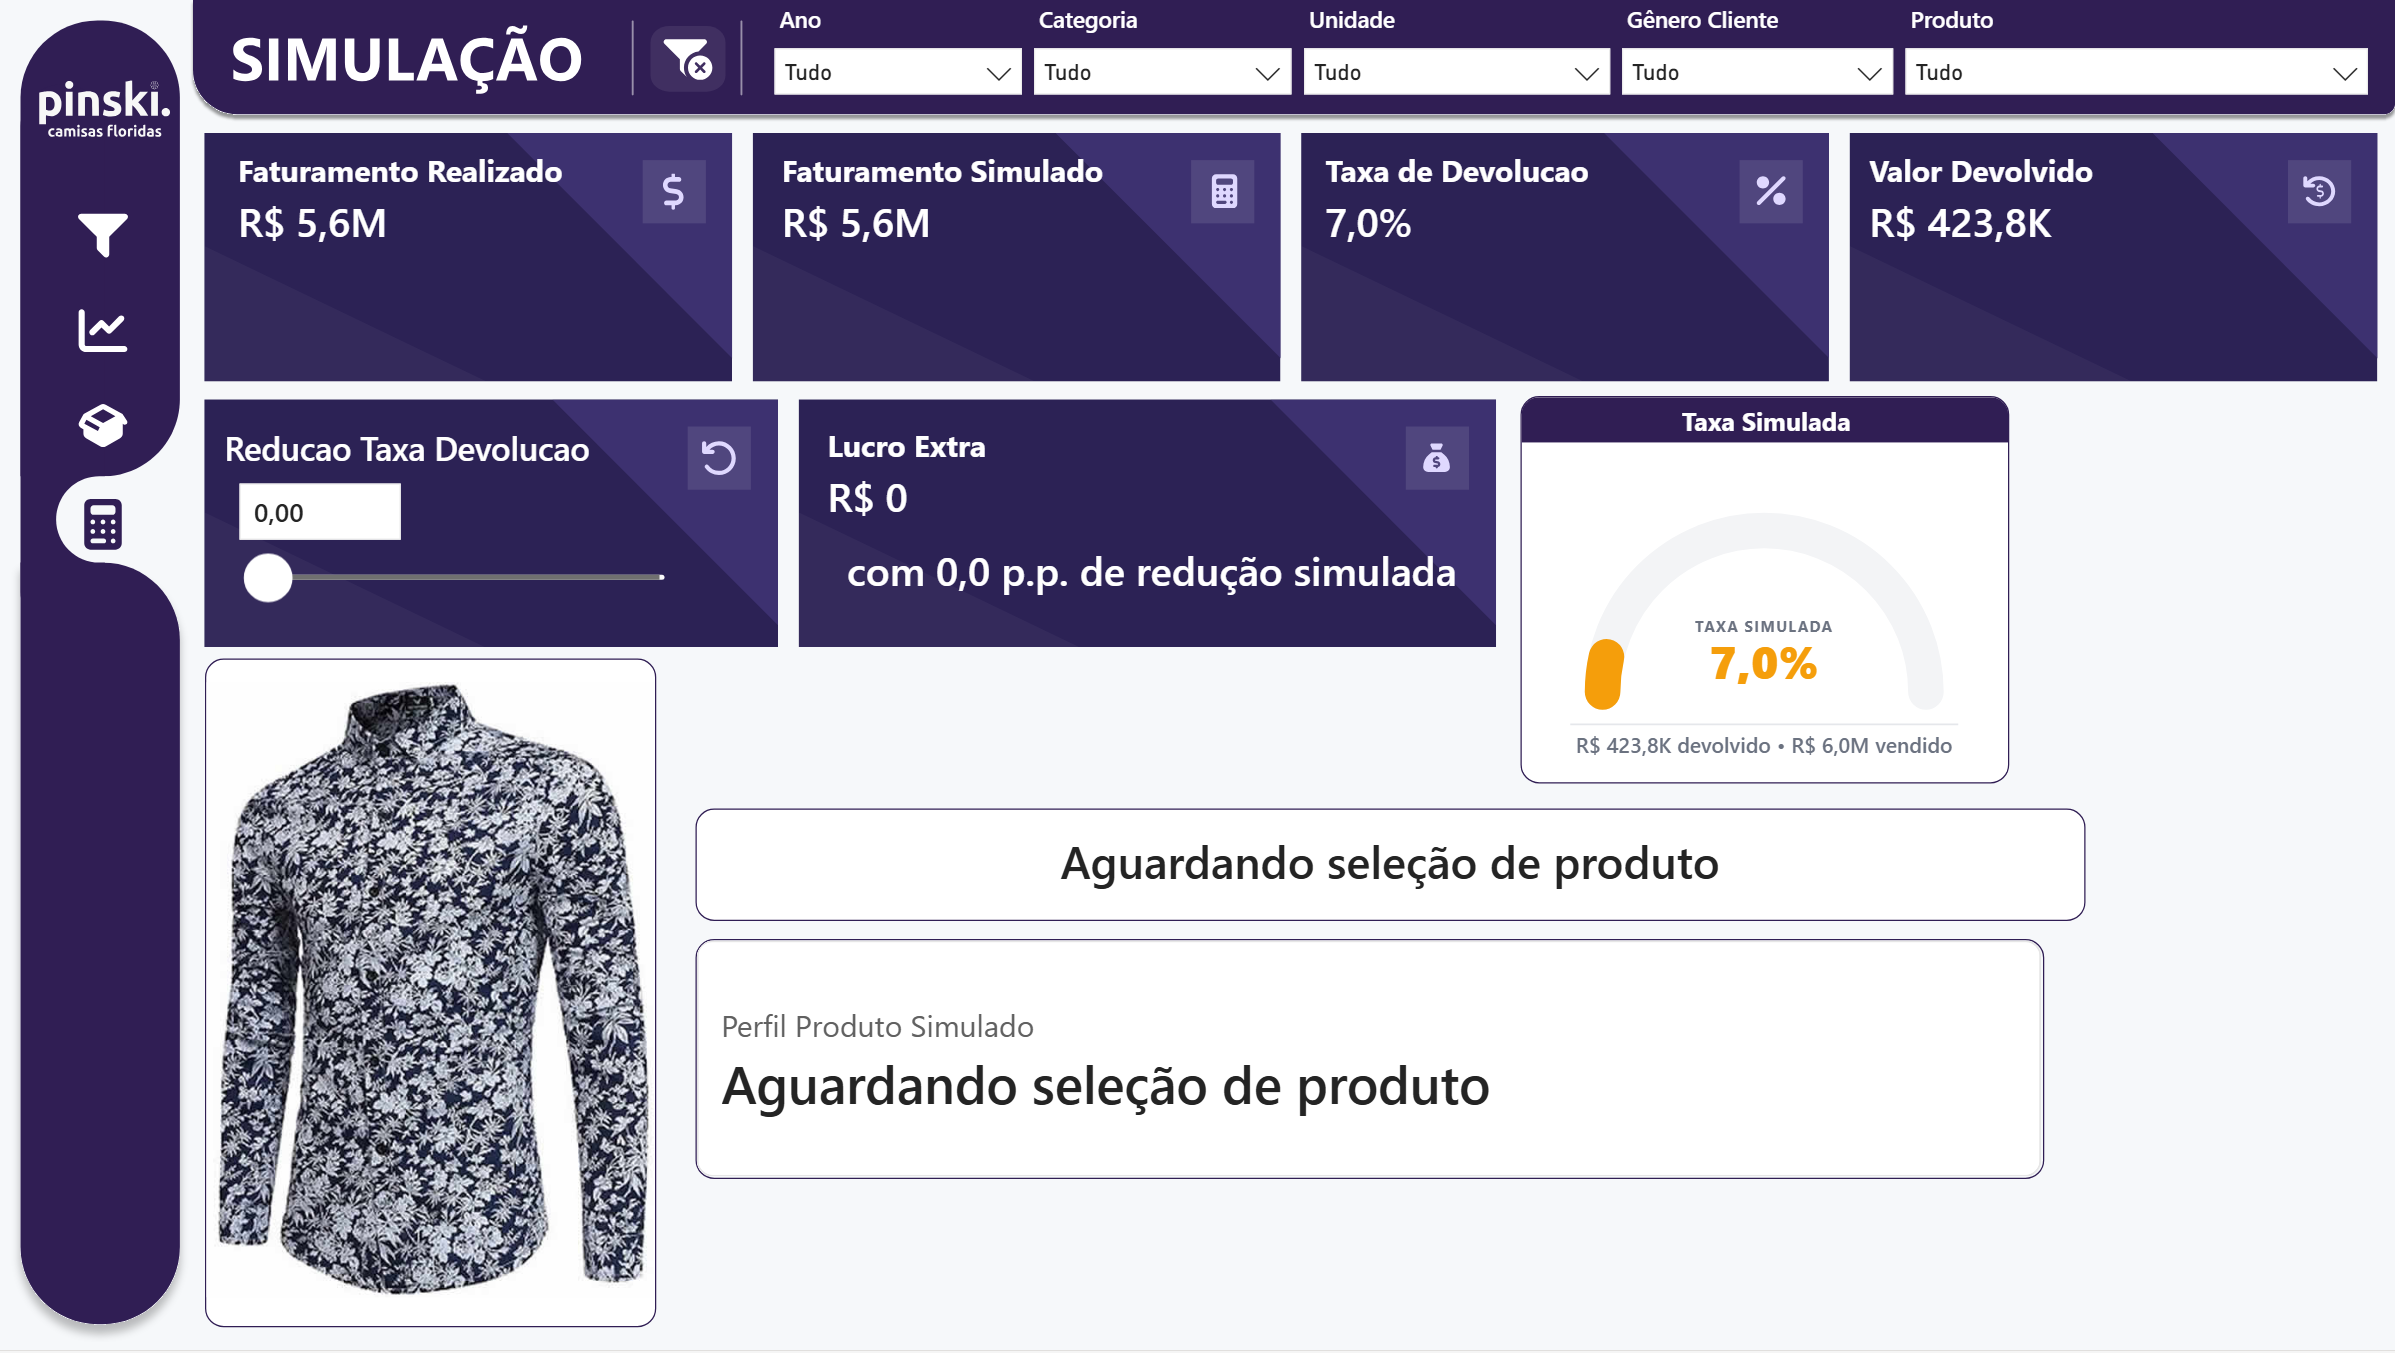

This screenshot's page, from the dashboard's own definition file:
{"tool":"powerbi","page":{"name":"Simulação","canvas":[1280,720],"ordinal":3},"visuals":[{"type":"group","id":"g1","title":"g_topbar","box":[408.4,2.4,860.3,59.2],"z":0},{"type":"slicer","title":"Produto","fields":{"Values":["Dim_Produto.Produto"]},"box":[1011.5,2.6,257.2,57.9],"z":0,"group":"g2"},{"type":"actionButton","title":"btn_simulação","box":[35.5,261.1,42.3,41.3],"z":0,"group":"g4"},{"type":"group","id":"g2","title":"g_filtros","box":[408.4,2.4,860.3,59.2],"z":500,"group":"g1"},{"type":"slicer","title":"Gênero Cliente","fields":{"Values":["Fact_Vendas.GeneroCliente"]},"box":[860.4,2.6,154.8,57.9],"z":1000,"group":"g2"},{"type":"actionButton","title":"btn_reset_filtro_rapido","box":[416.3,9.1,51.1,41.9],"z":1000,"group":"g1"},{"type":"group","id":"g3","title":"g_dados","box":[108,62,1171,645.2],"z":1000},{"type":"actionButton","title":"btn_devoluções","box":[35.6,203,42.2,41.1],"z":1000,"group":"g4"},{"type":"image","title":"Taxa Simulada","box":[811.6,210.6,260.8,206.9],"z":1000,"group":"g3"},{"type":"cardVisual","title":"Perfil Produto Simulado","fields":{"Data":["_Medidas.Perfil Produto Simulado"]},"box":[371.7,500.5,719.6,128.2],"z":1500,"group":"g3"},{"type":"slicer","title":"Unidade","fields":{"Values":["Fact_Vendas.Unidade"]},"box":[690.6,2.6,173.6,57.9],"z":2000,"group":"g2"},{"type":"group","id":"g4","title":"g_btn_navegacao","box":[19,33,75,269.4],"z":2000},{"type":"actionButton","title":"btn_vendas","box":[35,155.2,42.2,41.3],"z":2000,"group":"g4"},{"type":"card","title":"Titulo Contexto Produto","fields":{"Values":["_Medidas.Titulo Contexto Produto"]},"box":[371.7,430.6,741.5,59.7],"z":2000,"group":"g3"},{"type":"slicer","title":"Categoria","fields":{"Values":["Dim_Produto.Categoria"]},"box":[547,2.4,147.3,59.2],"z":3000,"group":"g2"},{"type":"actionButton","title":"btn_menu_on","box":[35.8,104.2,42.1,41.1],"z":3000,"group":"g4"},{"type":"slicer","title":"Ano","fields":{"Values":["Dim_Calendario.Ano"]},"box":[408.4,2.4,142.3,59.2],"z":4000,"group":"g2"},{"type":"actionButton","title":"btn_home","box":[19,33,75,46.4],"z":4000,"group":"g4"},{"type":"image","title":"Img Produto","box":[110.4,350.8,240.5,356.5],"z":7000,"group":"g3"},{"type":"cardVisual","title":"Subtitulo Lucro Extra","fields":{"Data":["_Medidas.Subtitulo Lucro Extra"]},"box":[441,274.9,359.8,61.2],"z":8062,"group":"g3"},{"type":"cardVisual","title":"Lucro Extra","fields":{"Data":["_Medidas.Lucro Extra"]},"box":[430.8,213.8,361.3,61.2],"z":8125,"group":"g3"},{"type":"slicer","title":"Reducao Taxa Devolucao","fields":{"Values":["Reducao Taxa Devolucao.Reducao Taxa Devolucao"]},"box":[121.1,226.6,250.6,100.5],"z":8250,"group":"g3"},{"type":"cardVisual","fields":{"Data":["_Medidas.Faturamento Realizado","_Medidas.Faturamento Simulado","_Medidas.Taxa de Devolucao","_Medidas.Valor Devolvido"]},"box":[108,62,1171,142],"z":8500,"group":"g3"}]}

Visuals, with their boxes in screenshot pixels (x1, y1, x2, y2), scaled from the page's 1280x720 canvas onto the 2395x1353 screenshot:
"g_topbar" group: Rect(764, 5, 2374, 116)
"Produto" slicer: Rect(1893, 5, 2374, 114)
"btn_simulação" actionButton: Rect(66, 491, 146, 568)
"g_filtros" group: Rect(764, 5, 2374, 116)
"Gênero Cliente" slicer: Rect(1610, 5, 1900, 114)
"btn_reset_filtro_rapido" actionButton: Rect(779, 17, 875, 96)
"g_dados" group: Rect(202, 117, 2393, 1329)
"btn_devoluções" actionButton: Rect(67, 381, 146, 459)
"Taxa Simulada" image: Rect(1519, 396, 2007, 785)
"Perfil Produto Simulado" cardVisual: Rect(695, 941, 2042, 1181)
"Unidade" slicer: Rect(1292, 5, 1617, 114)
"g_btn_navegacao" group: Rect(36, 62, 176, 568)
"btn_vendas" actionButton: Rect(65, 292, 144, 369)
"Titulo Contexto Produto" card: Rect(695, 809, 2083, 921)
"Categoria" slicer: Rect(1023, 5, 1299, 116)
"btn_menu_on" actionButton: Rect(67, 196, 146, 273)
"Ano" slicer: Rect(764, 5, 1030, 116)
"btn_home" actionButton: Rect(36, 62, 176, 149)
"Img Produto" image: Rect(207, 659, 657, 1329)
"Subtitulo Lucro Extra" cardVisual: Rect(825, 517, 1498, 632)
"Lucro Extra" cardVisual: Rect(806, 402, 1482, 517)
"Reducao Taxa Devolucao" slicer: Rect(227, 426, 695, 615)
cardVisual - _Medidas.Faturamento Realizado x _Medidas.Faturamento Simulado: Rect(202, 117, 2393, 383)
